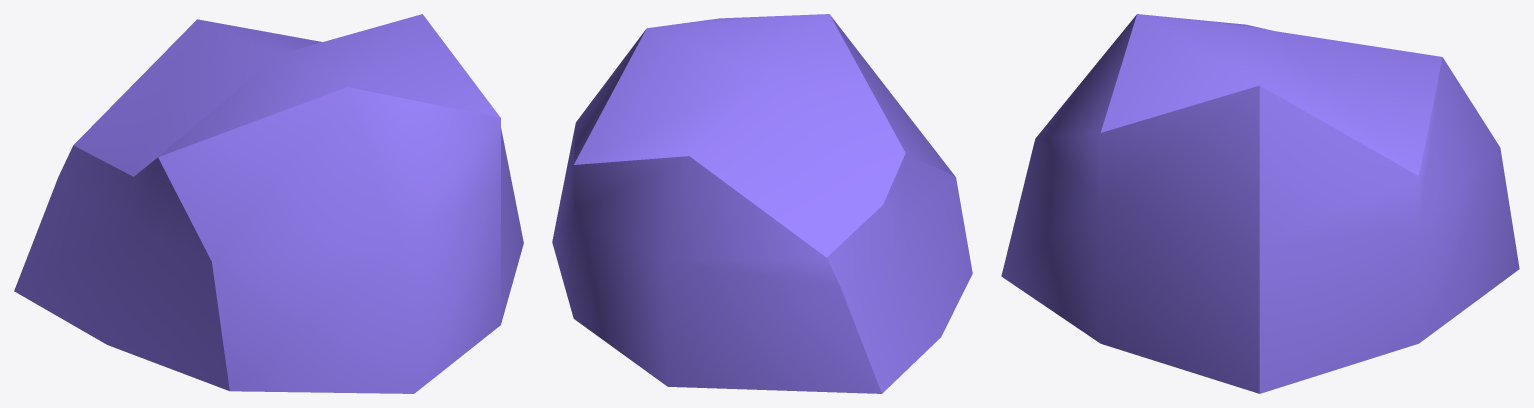
Rendered from ADML_Rock1.fbx.
3 views of the same model, side by side, from view 1: azimuth 30°, elevation 25°; view 2: azimuth 150°, elevation 25°; view 3: azimuth 270°, elevation 25° (orthographic). The views are drawn at different scales.
Parts seen in each view (by area): view 1: ADML_Rock1; view 2: ADML_Rock1; view 3: ADML_Rock1.
Boxes of the visible parts, x1,y1,x2,y2 form: ADML_Rock1: (14,14,523,393); ADML_Rock1: (552,14,972,393); ADML_Rock1: (1001,14,1519,393).
Bounding box in the file's own units: 47.76 × 48.84 × 27.29.
